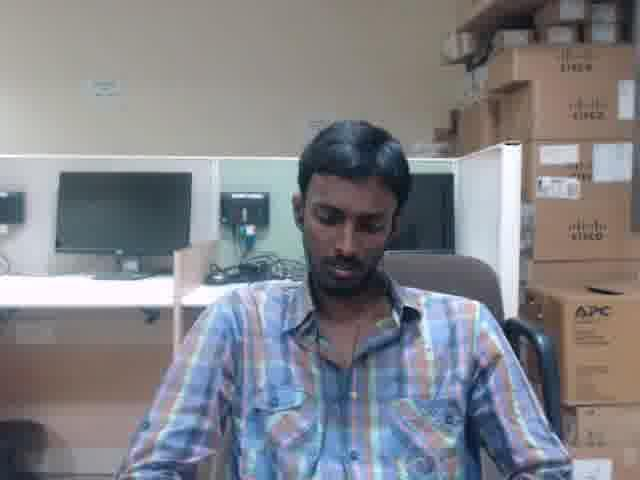bosan: (301, 173, 391, 291)
